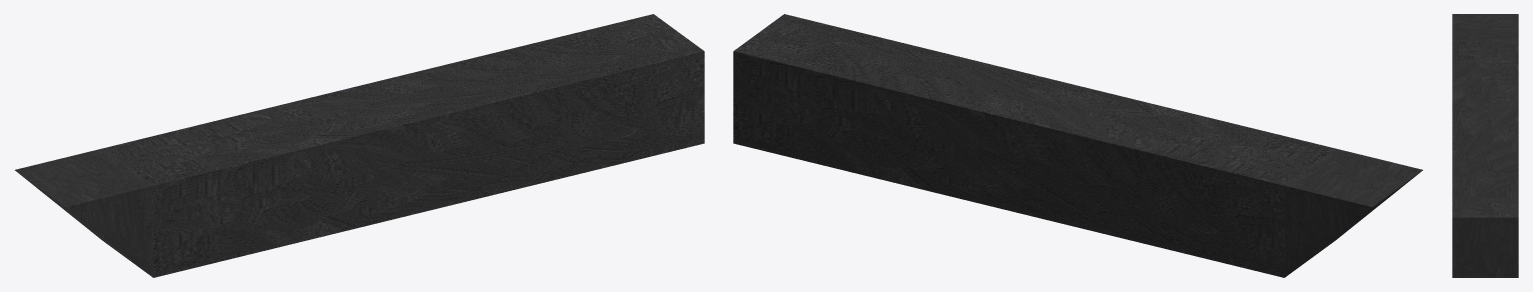
File: FoundationLightweightRifleMagazine.fbx
3 views of the same model, side by side, from view 1: azimuth 30°, elevation 25°; view 2: azimuth 150°, elevation 25°; view 3: azimuth 270°, elevation 25° (orthographic). The views are drawn at different scales.
Visible parts, largest first — view 1: node_id7, node_id4; view 2: node_id7, node_id4; view 3: node_id7, node_id4.
Boxes of the visible parts, x1,y1,x2,y2 form: node_id7: (103,14,704,277); node_id4: (15,148,153,277); node_id7: (733,14,1334,277); node_id4: (1284,148,1422,277); node_id7: (1452,42,1518,277); node_id4: (1452,14,1518,41).
Size of the model in its own units: 0.512 by 0.0706 by 0.0706.
4 materials, 2 textured.
